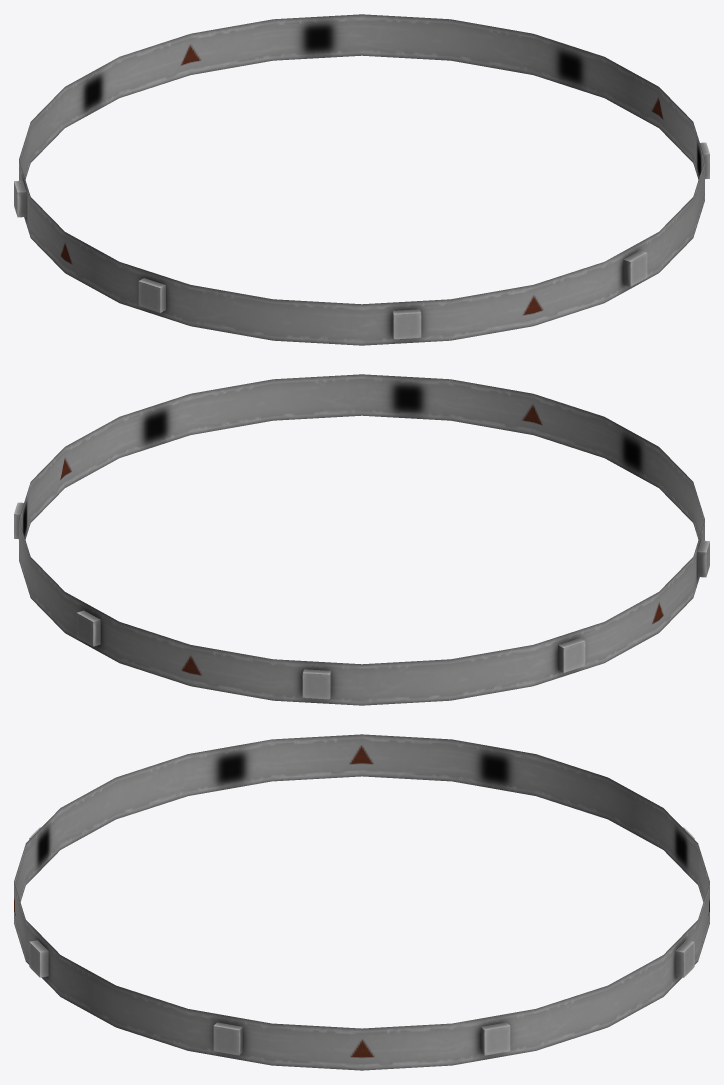
The model's file is arrow_decoupler_s1p5_1.obj.
3 renders of one model, top to bottom at view 1: azimuth 30°, elevation 25°; view 2: azimuth 150°, elevation 25°; view 3: azimuth 270°, elevation 25°, orthographic.
Parts seen in each view (by area): view 1: mesh1; view 2: mesh1; view 3: mesh1.
Boxes of the visible parts, bbox=[...] form: mesh1: bbox=[14, 14, 709, 345]; mesh1: bbox=[14, 374, 709, 705]; mesh1: bbox=[14, 734, 709, 1070].
Bounding box in the file's own units: 1.88 × 0.125 × 1.88.
1 material, 1 textured.
